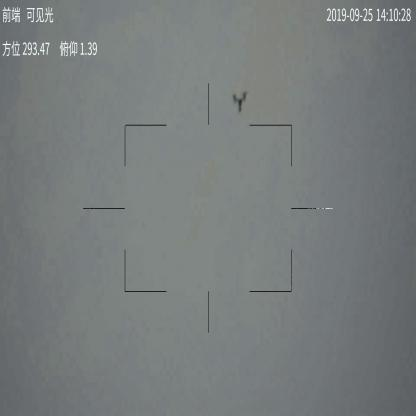uav: (232, 91, 248, 112)
